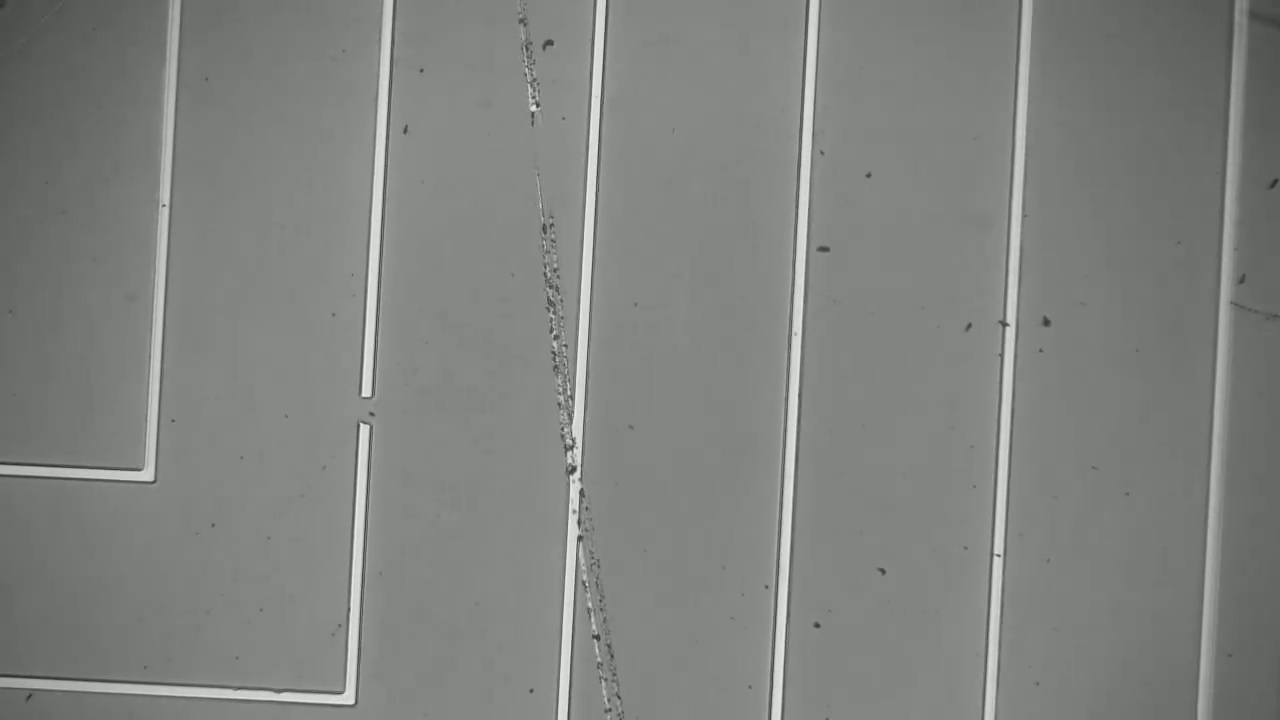open: (338, 376, 387, 447)
scratch: (510, 8, 630, 714), (1229, 289, 1273, 336)
